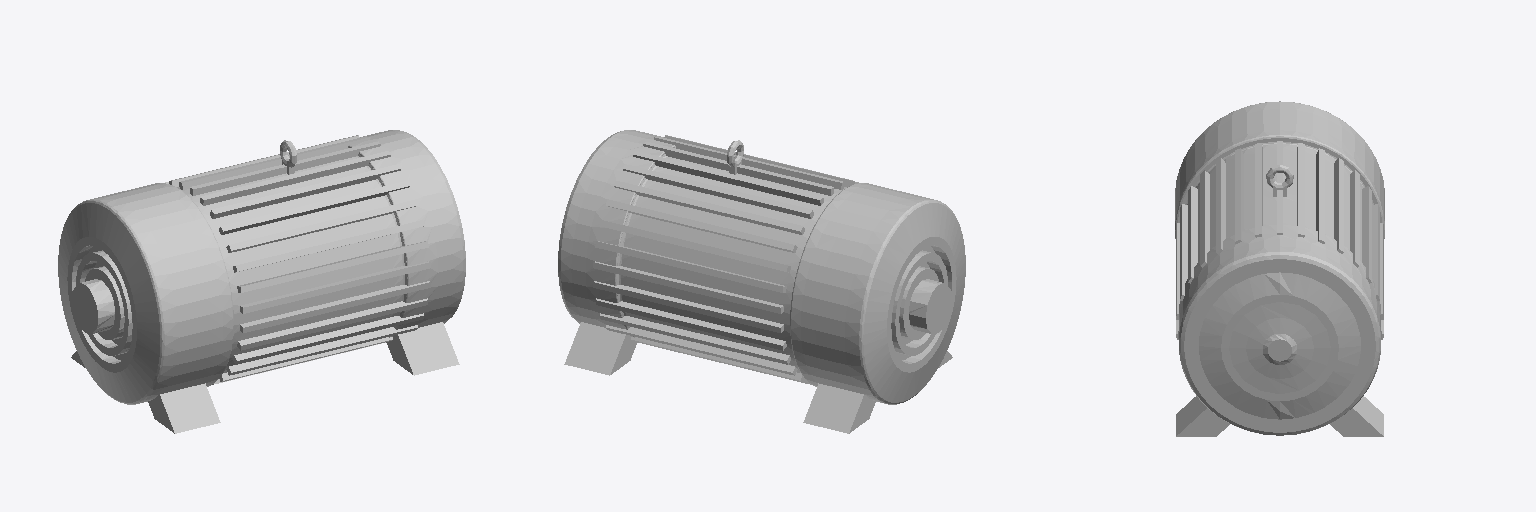
File: generator.obj
The picture shows the model from 3 angles: view 1: azimuth 30°, elevation 25°; view 2: azimuth 150°, elevation 25°; view 3: azimuth 270°, elevation 25°; orthographic projection.
Parts seen in each view (by area): view 1: 1; view 2: 1; view 3: 1.
Boxes of the visible parts, box(x1,y1,x2,y2) form: 1: box(58, 130, 465, 433); 1: box(558, 130, 965, 433); 1: box(1175, 101, 1384, 436).
Bounding box in the file's own units: 1495 × 897 × 797.